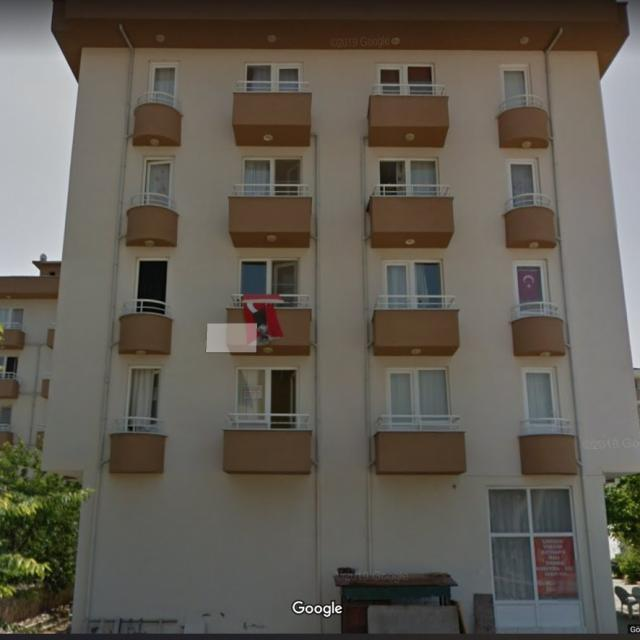Building: (42, 0, 640, 634)
